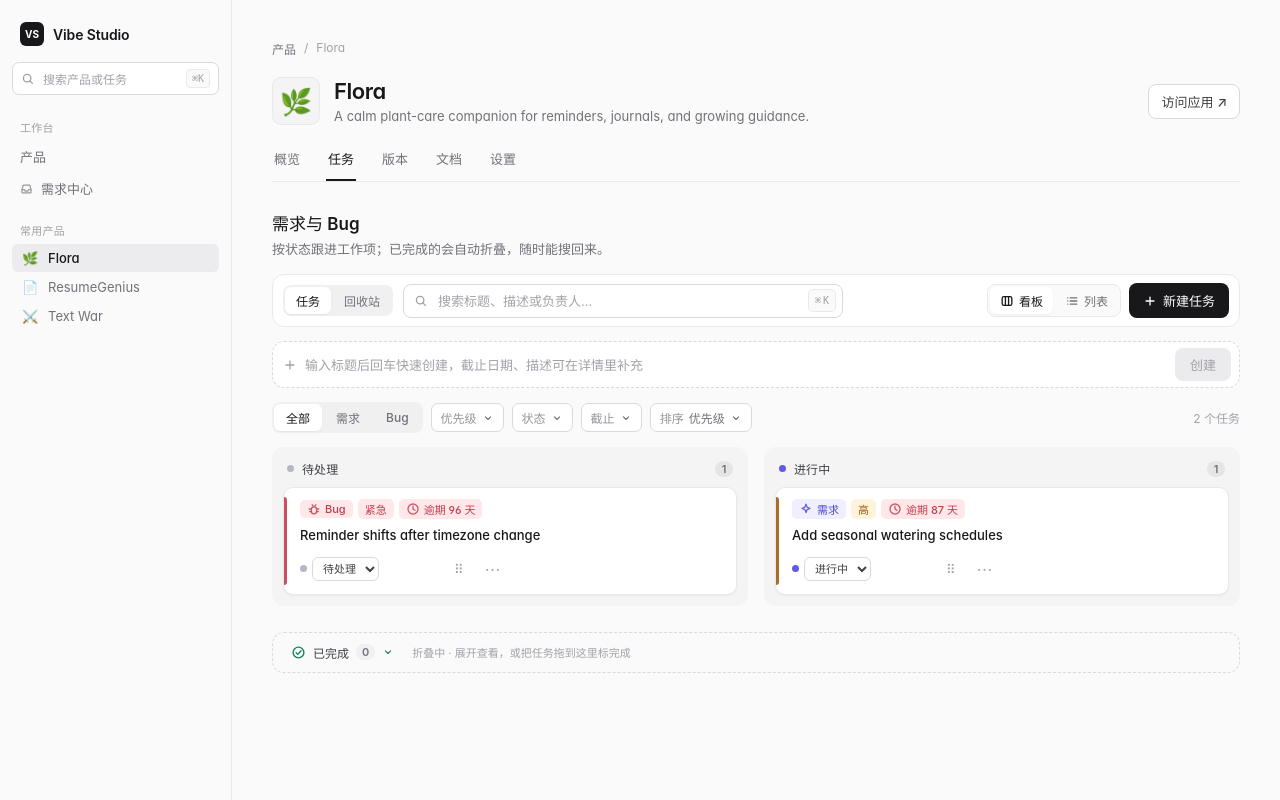
Test case: task board › filters Bug without changing or showing requirements
The width and height of the screenshot is (1280, 800).
What coordinates should you click on to do the following:
click the button "Bug"
I would click on:
 (397, 418)
Its box is [374, 404, 420, 431].
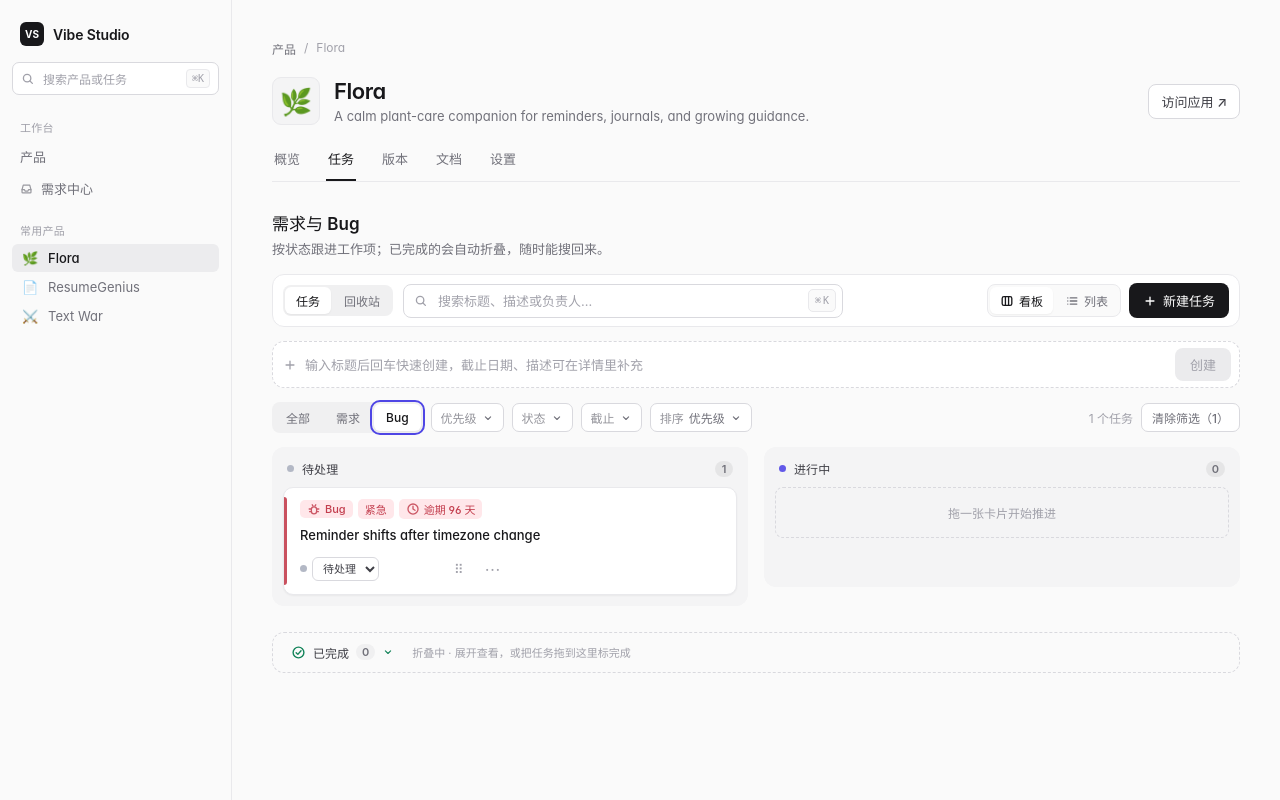
Expected: the button "Reminder shifts after timezone change" is shown, [300, 526, 723, 545]
Expected: the button "Add seasonal watering schedules" is gone
